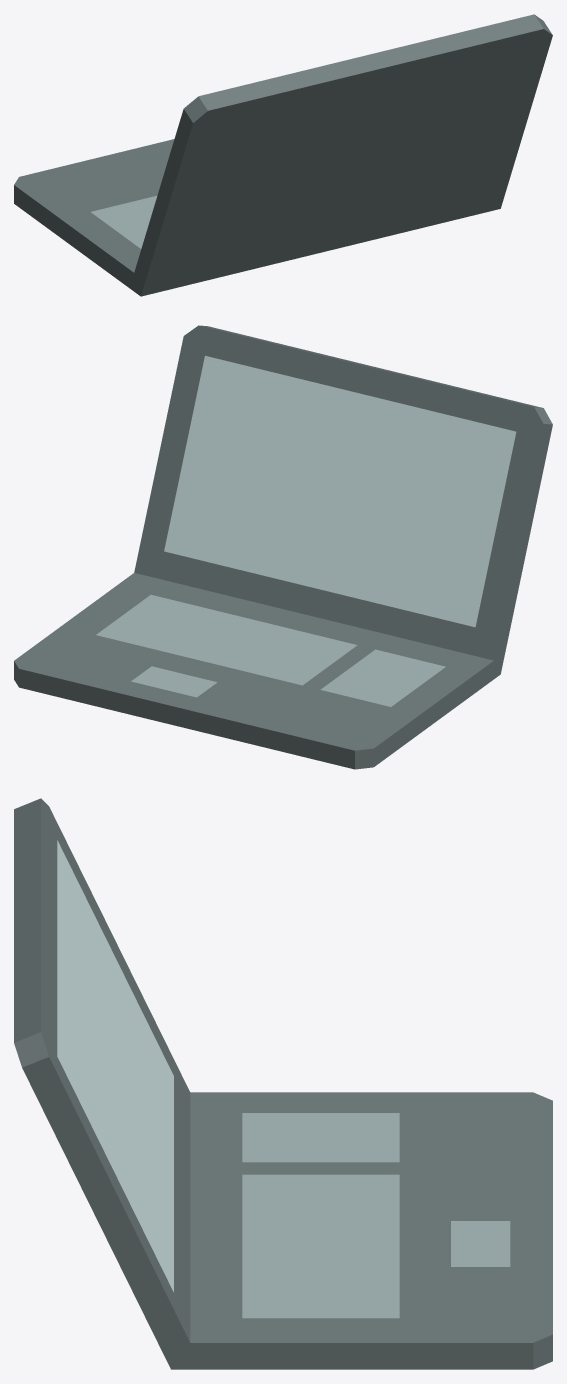
Rendered from low-end-gpu.glb.
3 renders of one model, top to bottom at view 1: azimuth 30°, elevation 25°; view 2: azimuth 150°, elevation 25°; view 3: azimuth 270°, elevation 25°, orthographic. The views are drawn at different scales.
Parts seen in each view (by area): view 1: laptop; view 2: laptop; view 3: laptop.
Boxes of the visible parts, x1,y1,x2,y2 form: laptop: (14, 14, 552, 296); laptop: (14, 325, 552, 769); laptop: (14, 798, 552, 1369).
Size of the model in its own units: 2.64 by 1.62 by 2.4.
